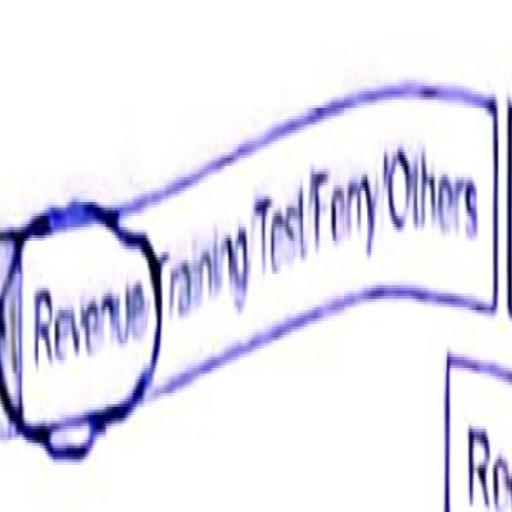check: (4, 197, 153, 451)
